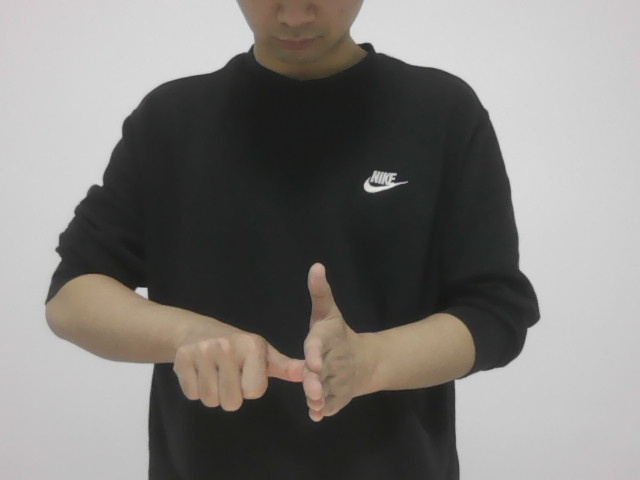time: (154, 258, 373, 434)
